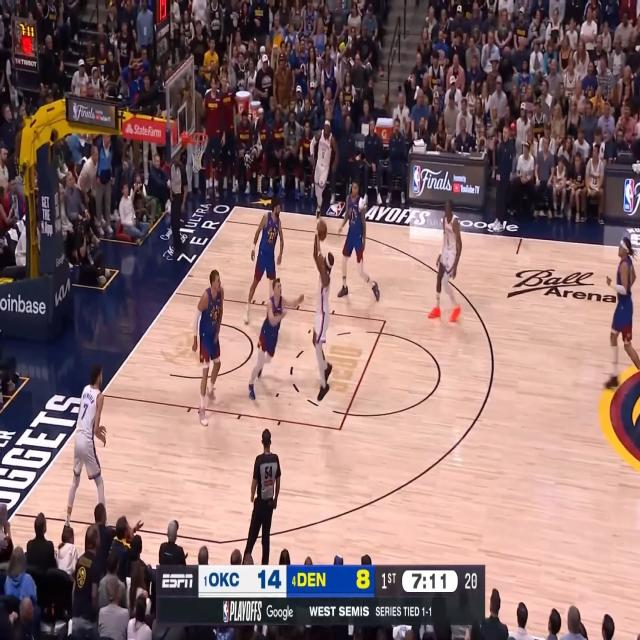ball: (316, 218, 326, 240)
number: (81, 402, 88, 420), (269, 230, 275, 240), (213, 310, 218, 320), (321, 150, 325, 160), (352, 211, 354, 220)
player: (62, 363, 108, 528), (247, 276, 304, 399), (602, 235, 640, 388), (244, 194, 285, 325), (337, 178, 380, 302), (192, 269, 224, 427), (427, 198, 462, 324), (309, 116, 339, 222)
player-jump-shot: (312, 218, 334, 402)
referee: (242, 427, 282, 565), (168, 152, 188, 260)
rim: (187, 130, 209, 145)
